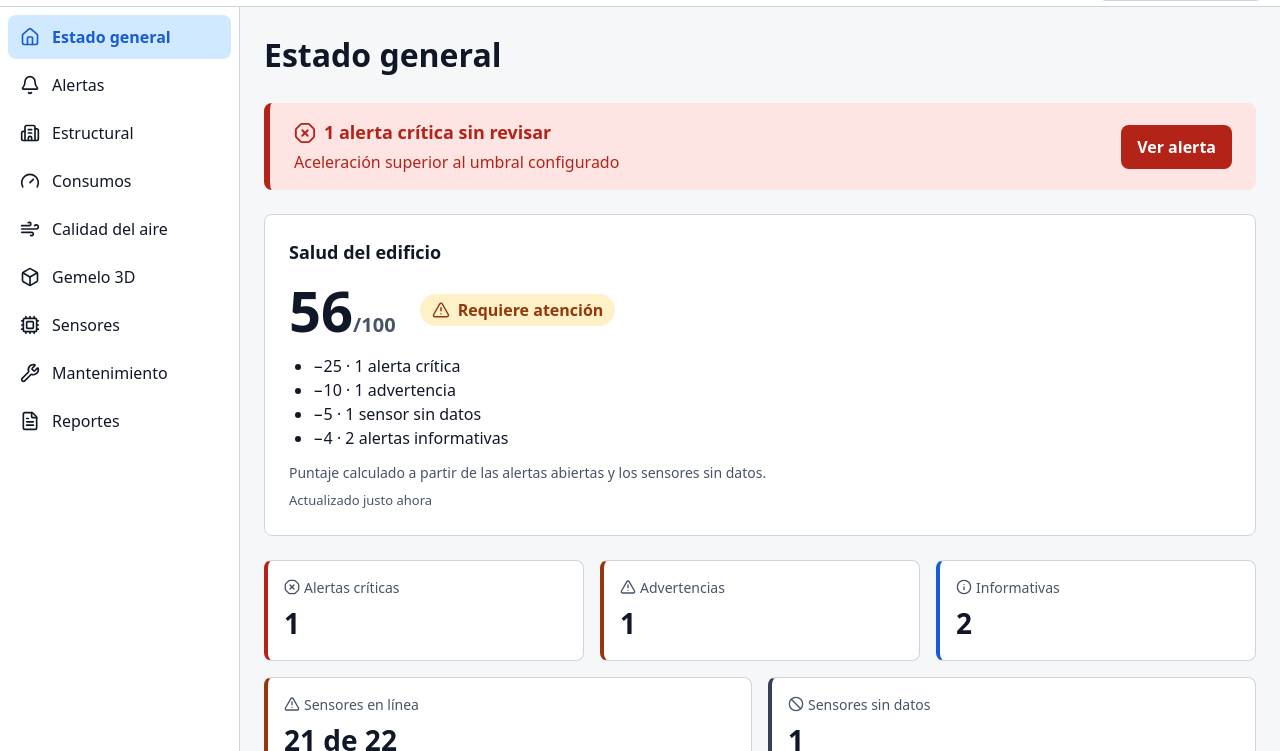
it: detalle de alerta › desde el banner del home se llega al detalle en un clic
Step 1. Click the link "Ver alerta" → (1177, 146), box [1121,124,1232,168]
(page scrolled)
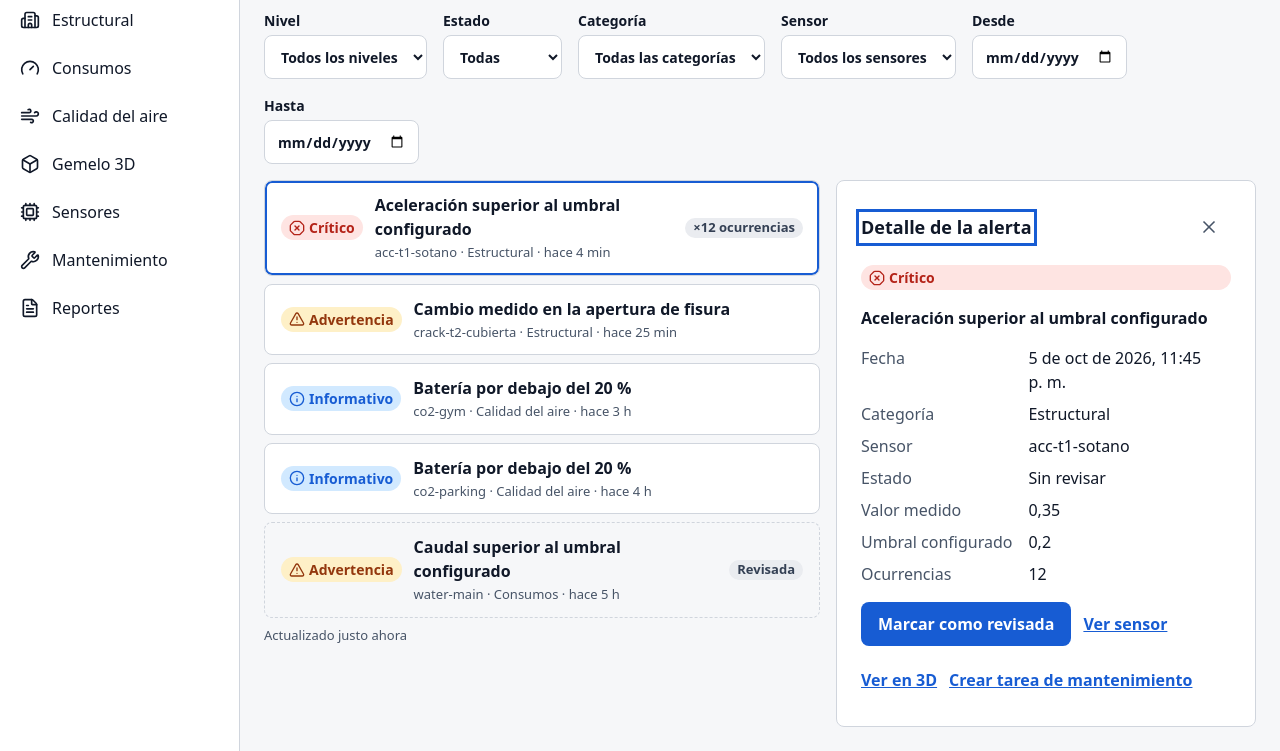
Check: the element "Detalle de la alerta" is shown, box [836,180,1256,727]
